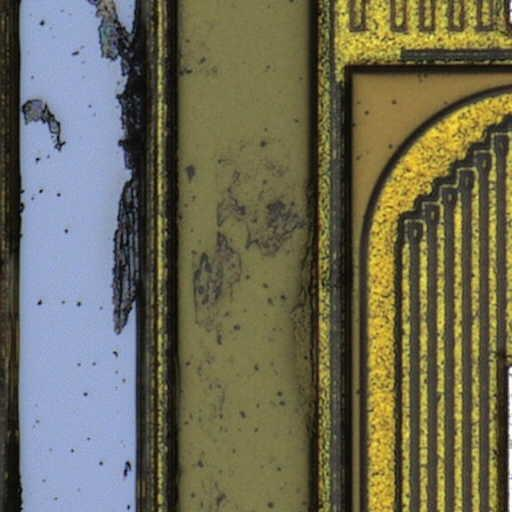PO CONTAMINATION: (14, 1, 326, 512)
